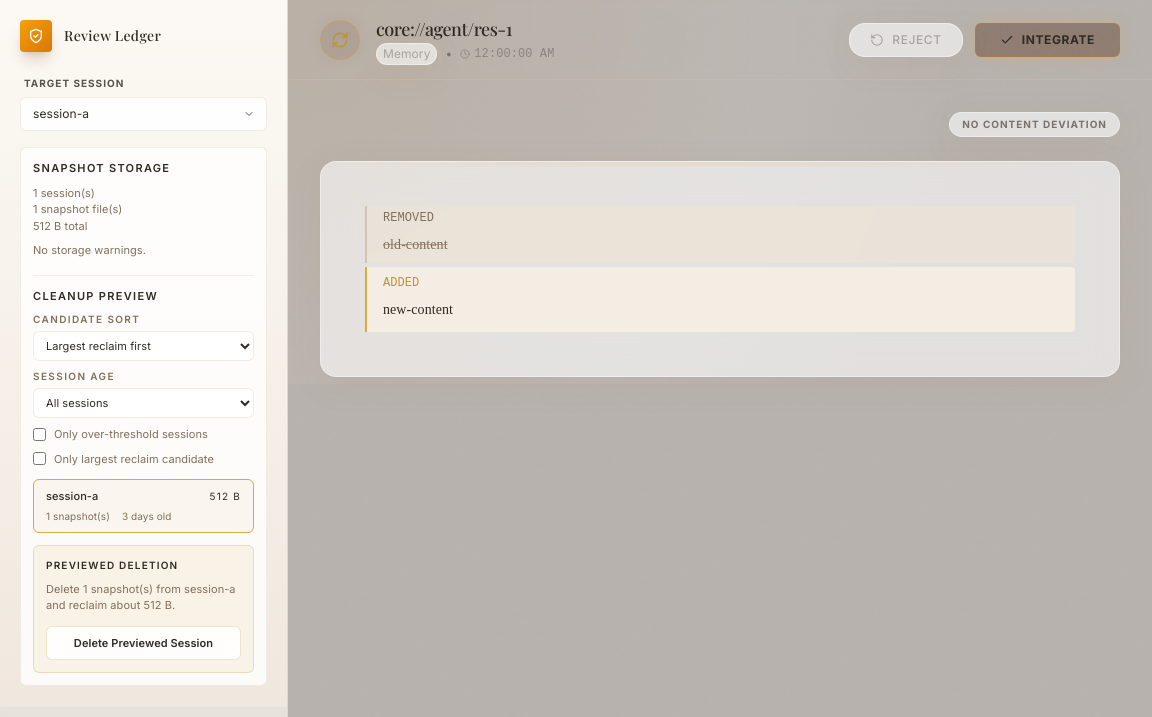
ReviewPage › does not approve snapshot when rollback returns success=false
Click the button "Reject".
click(906, 40)  # box [849, 22, 963, 56]
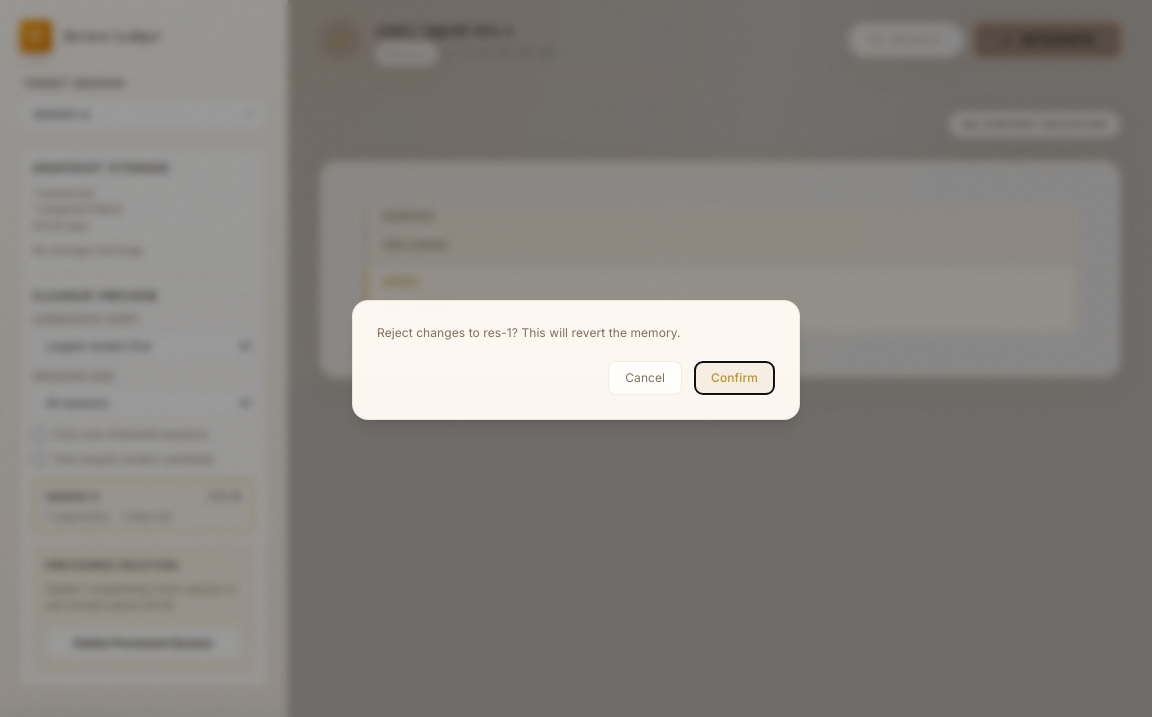
Click the button "Confirm".
click(735, 378)  # box [694, 361, 775, 395]
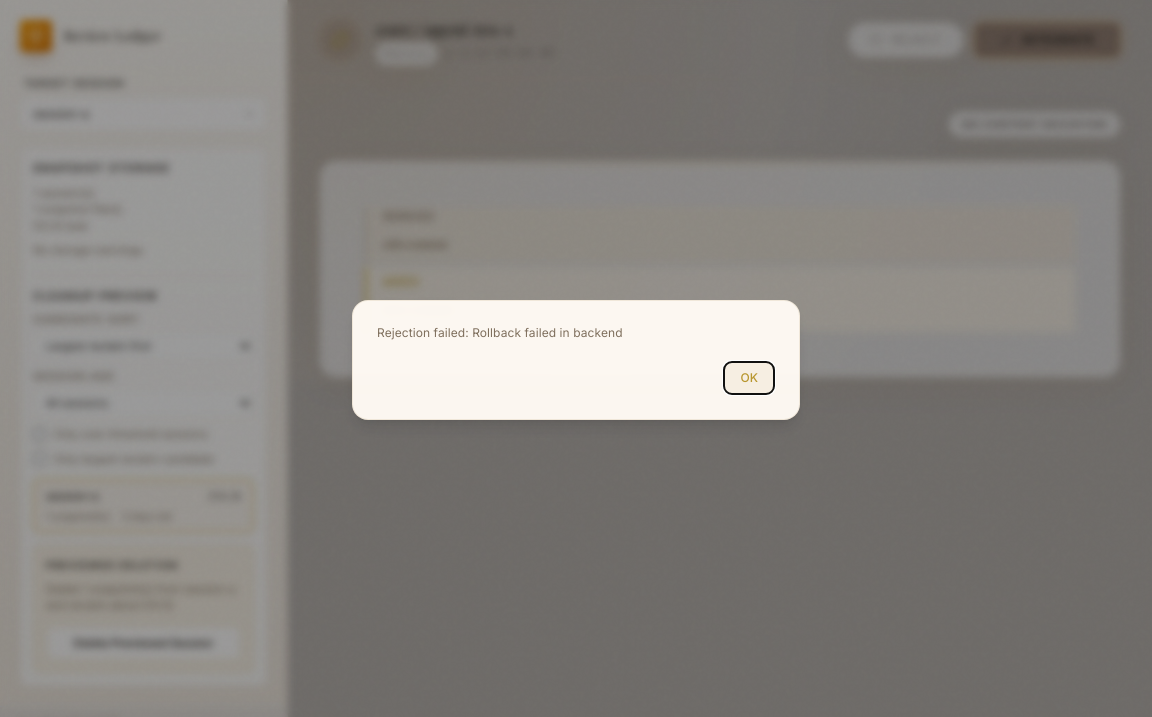
expect the dialog shows "Rejection failed": met, box [377, 325, 623, 340]
